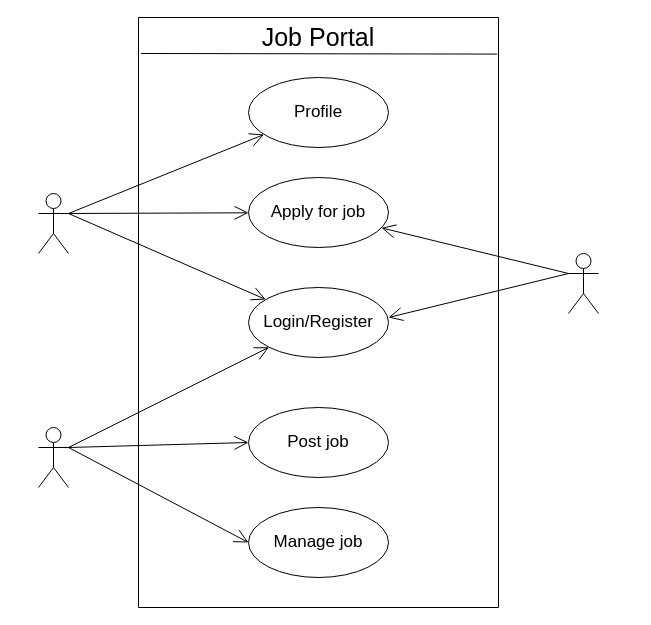
This 651x625 diagram has some shape labels left out. The box of each missing label's shape, as (x1, y1, x2, y2) in pixels:
Administrator: (568, 252, 598, 314)
Company: (38, 426, 68, 488)
User: (38, 192, 68, 254)
